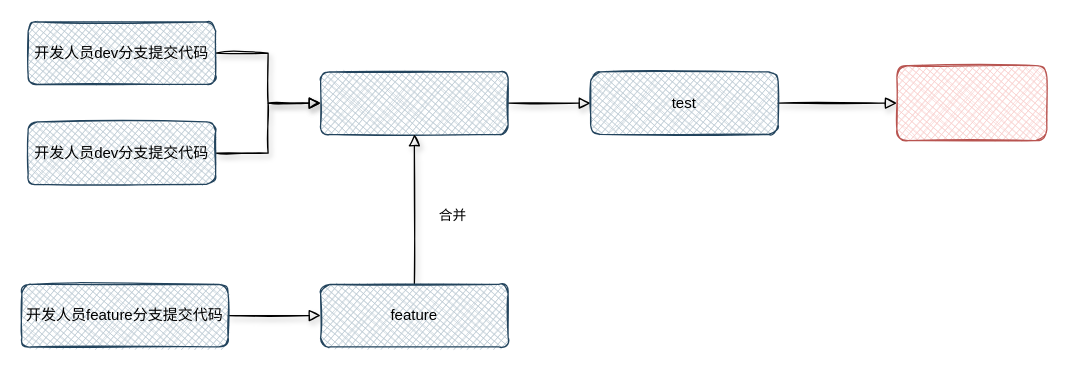
Some shapes in this 1069 by 369 pixel diagram are drawn without their labels. Each missing label, with the centre of its shape:
"dev" goes at (x=413, y=102).
"测试环境" goes at (x=971, y=102).
